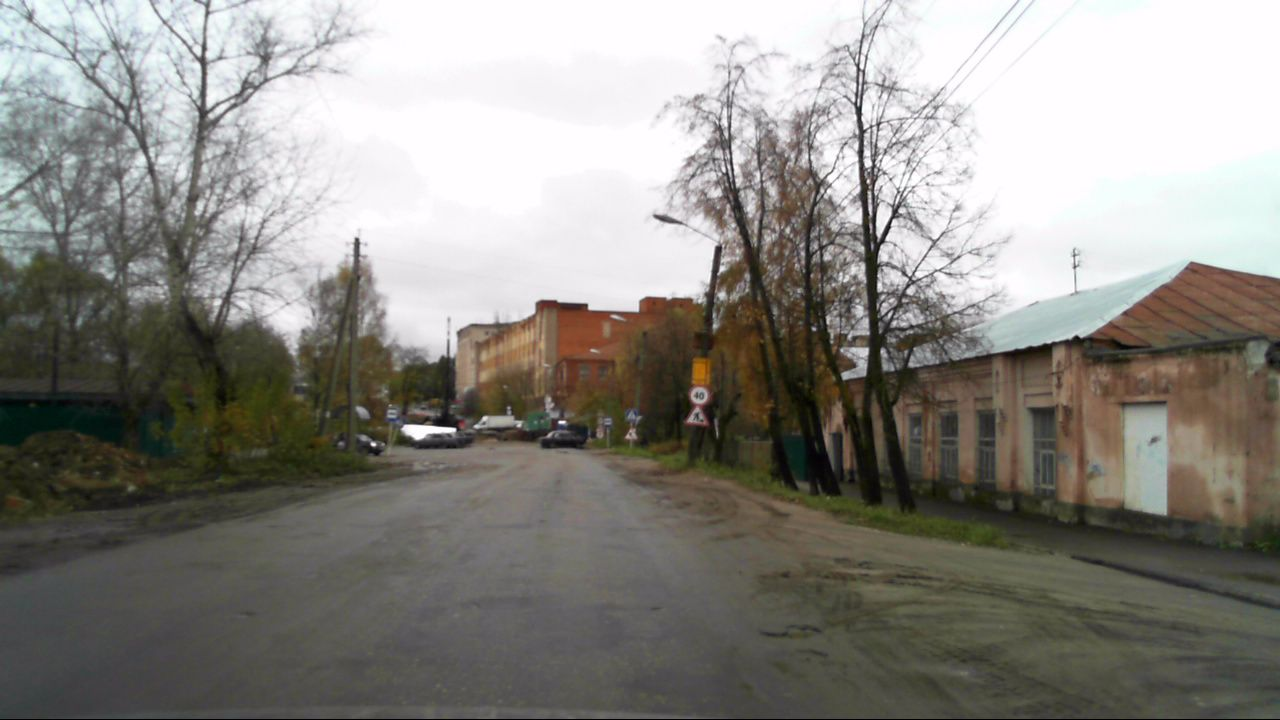speed_warning_40: (687, 384, 711, 405)
